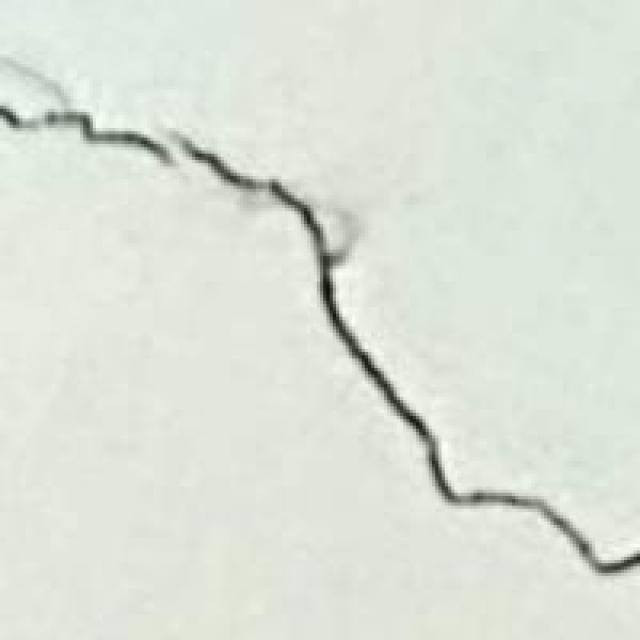crack: (6, 74, 637, 592)
